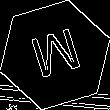M_S: (25, 24, 85, 86)
